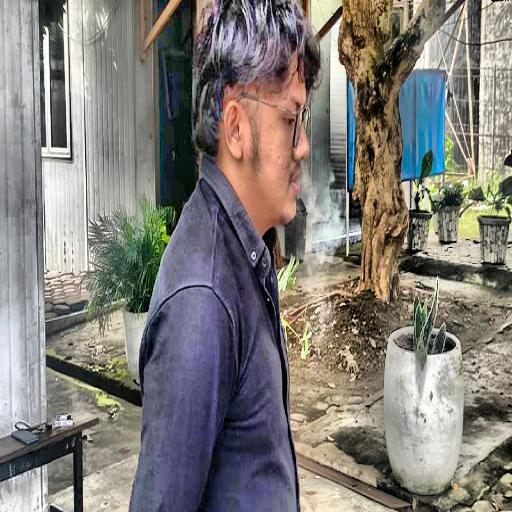Rokok: (128, 0, 344, 512)
